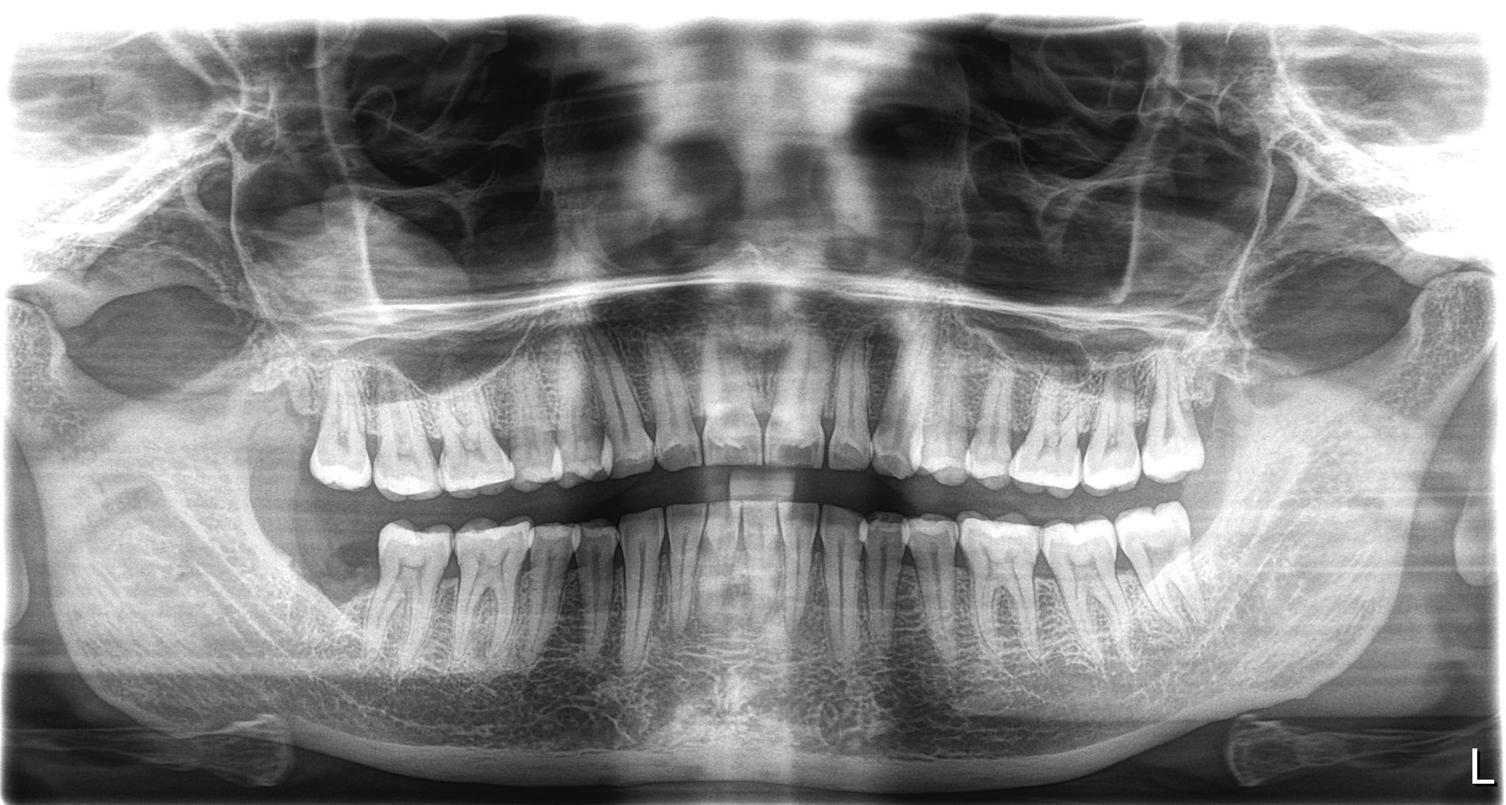Missing Tooth: (239, 371, 310, 487), (272, 518, 329, 621), (333, 526, 382, 630)
